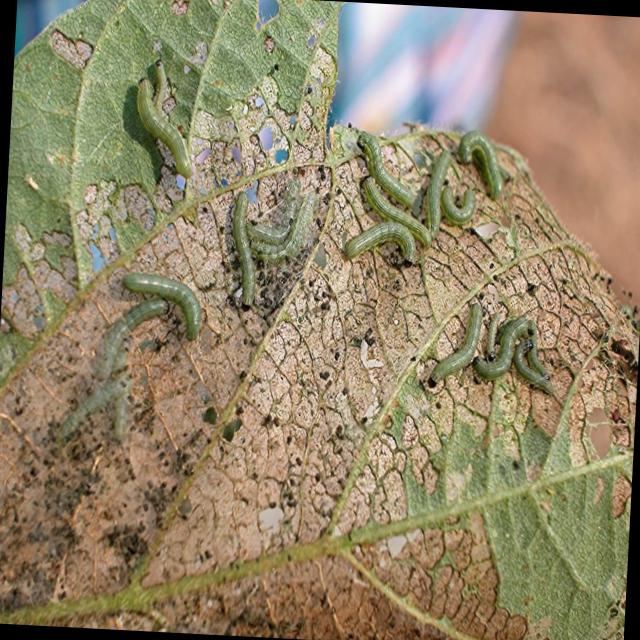Armyworm: (123, 223, 214, 346), (346, 118, 434, 233), (119, 71, 192, 180), (335, 211, 425, 285), (458, 107, 514, 203), (220, 183, 260, 309), (434, 298, 488, 384), (483, 308, 529, 380), (513, 325, 557, 397), (435, 172, 484, 225)
Armyworm_damage: (78, 211, 117, 283), (250, 111, 293, 165), (234, 1, 286, 42)
